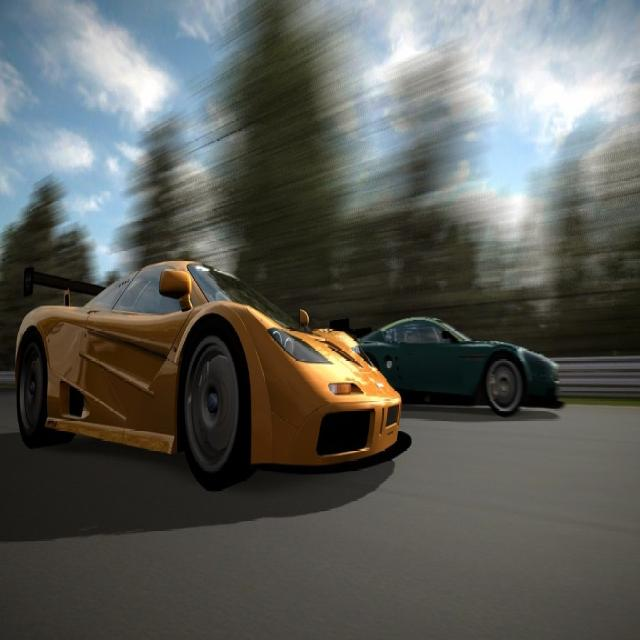car: (7, 247, 407, 479)
